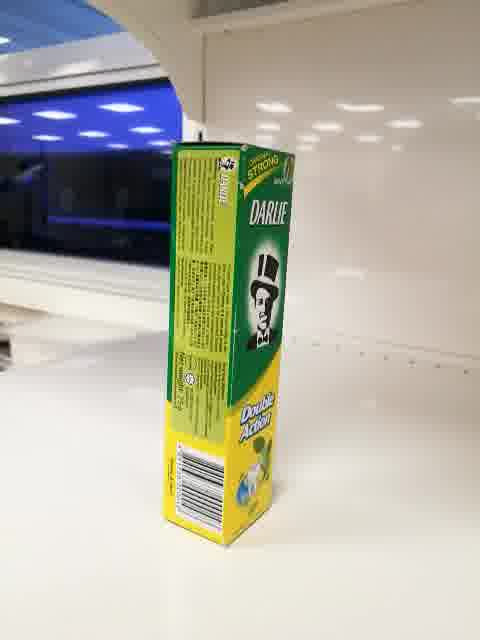toothpaste: (161, 141, 296, 549)
